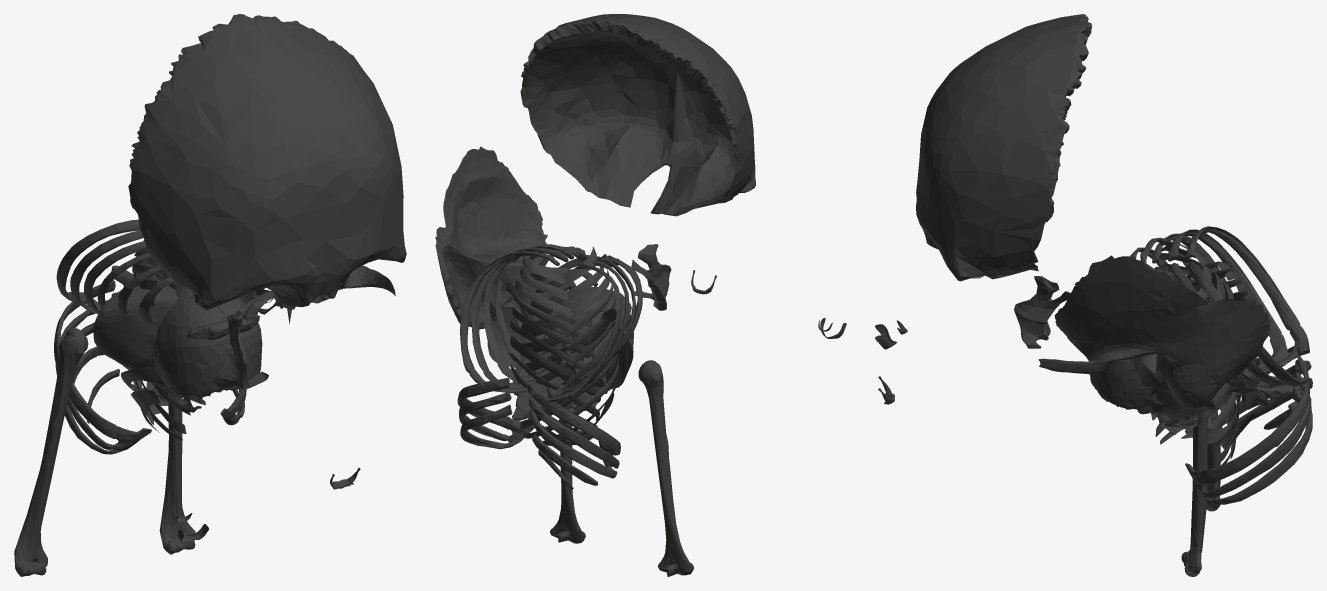
The model's file is sharedassets56.glb.
3 renders of one model, left to right at view 1: azimuth 30°, elevation 25°; view 2: azimuth 150°, elevation 25°; view 3: azimuth 270°, elevation 25°, orthographic. The views are drawn at different scales.
Visible parts, largest first — view 1: 0087_Frontal__001097, 0075_Parietal, R__001095, 0203_Humerus _arm, brachium_, L__000796, 0206_Diaphragm__100097, 0204_Humerus _arm, brachium_, R__000807, 0132_Eighth rib _08_, R__002280, 0007_External intercostal, L__1000149, 0068_Palatine, R__001081, 0140_Seventh rib _07_, R__002279, 0008_External intercostal, R__1000150, 0076_Parietal, L__001094, 0139_Sixth rib _06_, R__002278 (+8 smaller); view 2: 0087_Frontal__001097, 0088_Temporal, L__001110, 0008_External intercostal, R__1000150, 0007_External intercostal, L__1000149, 0203_Humerus _arm, brachium_, L__000796, 0206_Diaphragm__100097, 0152_Seventh rib _07_, L__002291, 0204_Humerus _arm, brachium_, R__000807, 0068_Palatine, R__001081, 0151_Sixth rib _06_, L__002290, 0132_Eighth rib _08_, R__002280, 0150_Fifth rib _05_, L__002289 (+11 smaller); view 3: 0087_Frontal__001097, 0088_Temporal, L__001110, 0007_External intercostal, L__1000149, 0140_Seventh rib _07_, R__002279, 0143_Eighth rib _08_, L__002292, 0076_Parietal, L__001094, 0204_Humerus _arm, brachium_, R__000807, 0068_Palatine, R__001081, 0008_External intercostal, R__1000150, 0139_Sixth rib _06_, R__002278, 0144_Ninth rib _09_, L__002293, 0145_Tenth rib _10_, L__002294 (+4 smaller).
Part boxes in pixels (x1,y1,x2,y2): 0087_Frontal__001097: [128, 14, 406, 309]; 0075_Parietal, R__001095: [155, 297, 236, 397]; 0203_Humerus _arm, brachium_, L__000796: [14, 328, 88, 576]; 0206_Diaphragm__100097: [93, 285, 258, 397]; 0204_Humerus _arm, brachium_, R__000807: [159, 398, 195, 554]; 0132_Eighth rib _08_, R__002280: [54, 280, 151, 444]; 0007_External intercostal, L__1000149: [121, 249, 210, 425]; 0068_Palatine, R__001081: [212, 310, 268, 389]; 0140_Seventh rib _07_, R__002279: [56, 219, 140, 306]; 0008_External intercostal, R__1000150: [133, 239, 197, 440]; 0076_Parietal, L__001094: [218, 297, 262, 389]; 0139_Sixth rib _06_, R__002278: [70, 230, 143, 313]; 0087_Frontal__001097: [520, 14, 755, 216]; 0088_Temporal, L__001110: [435, 146, 572, 329]; 0008_External intercostal, R__1000150: [510, 254, 600, 444]; 0007_External intercostal, L__1000149: [514, 246, 618, 445]; 0203_Humerus _arm, brachium_, L__000796: [638, 360, 693, 576]; 0206_Diaphragm__100097: [487, 295, 633, 392]; 0152_Seventh rib _07_, L__002291: [460, 251, 559, 393]; 0204_Humerus _arm, brachium_, R__000807: [550, 399, 585, 543]; 0068_Palatine, R__001081: [631, 244, 671, 310]; 0151_Sixth rib _06_, L__002290: [471, 248, 568, 388]; 0132_Eighth rib _08_, R__002280: [527, 383, 620, 455]; 0150_Fifth rib _05_, L__002289: [483, 246, 574, 381]; 0087_Frontal__001097: [916, 14, 1092, 281]; 0088_Temporal, L__001110: [1038, 255, 1270, 408]; 0007_External intercostal, L__1000149: [1159, 240, 1242, 465]; 0140_Seventh rib _07_, R__002279: [1185, 226, 1309, 372]; 0143_Eighth rib _08_, L__002292: [1185, 356, 1309, 485]; 0076_Parietal, L__001094: [1090, 360, 1156, 414]; 0204_Humerus _arm, brachium_, R__000807: [1181, 411, 1208, 576]; 0068_Palatine, R__001081: [1014, 276, 1070, 348]; 0008_External intercostal, R__1000150: [1151, 261, 1260, 449]; 0139_Sixth rib _06_, R__002278: [1167, 229, 1288, 371]; 0144_Ninth rib _09_, L__002293: [1197, 372, 1311, 498]; 0145_Tenth rib _10_, L__002294: [1204, 387, 1312, 504].
Bounding box in the file's own units: 0.2162 × 0.3779 × 0.2726.
Materials: 1 (1 with a texture image).
